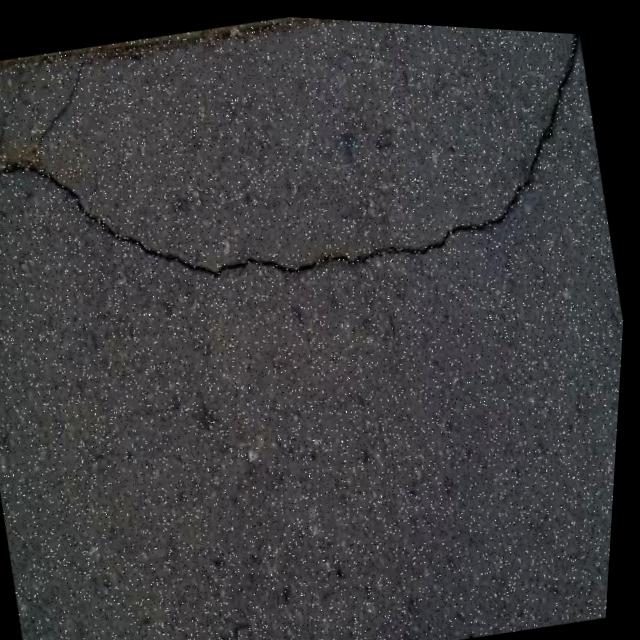Crack: (0, 0, 624, 375)
